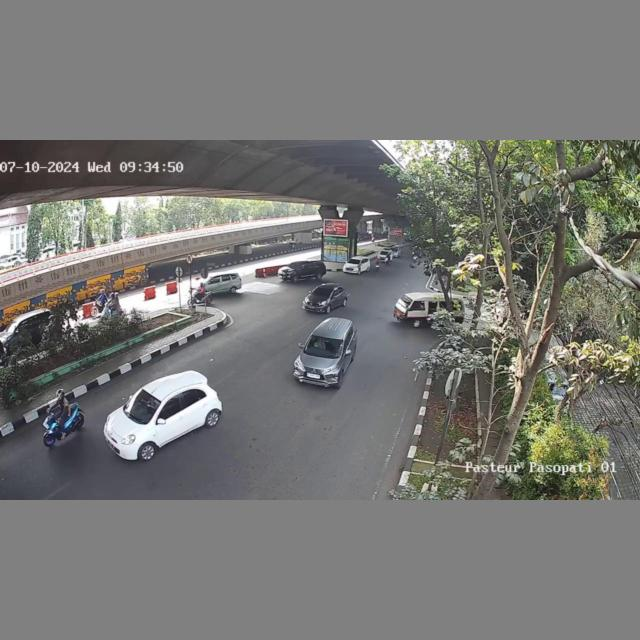windshield: (124, 388, 161, 422), (305, 335, 344, 358), (311, 286, 332, 297)
